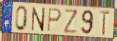0: (15, 6, 29, 32)
9: (80, 9, 95, 35)
N: (30, 7, 46, 33)
P: (47, 7, 63, 33)
T: (98, 10, 111, 37)
Z: (63, 8, 78, 35)
